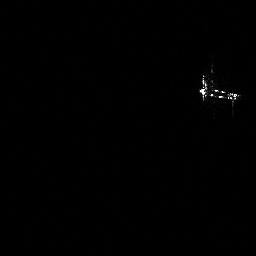ship: (198, 73, 241, 98)
